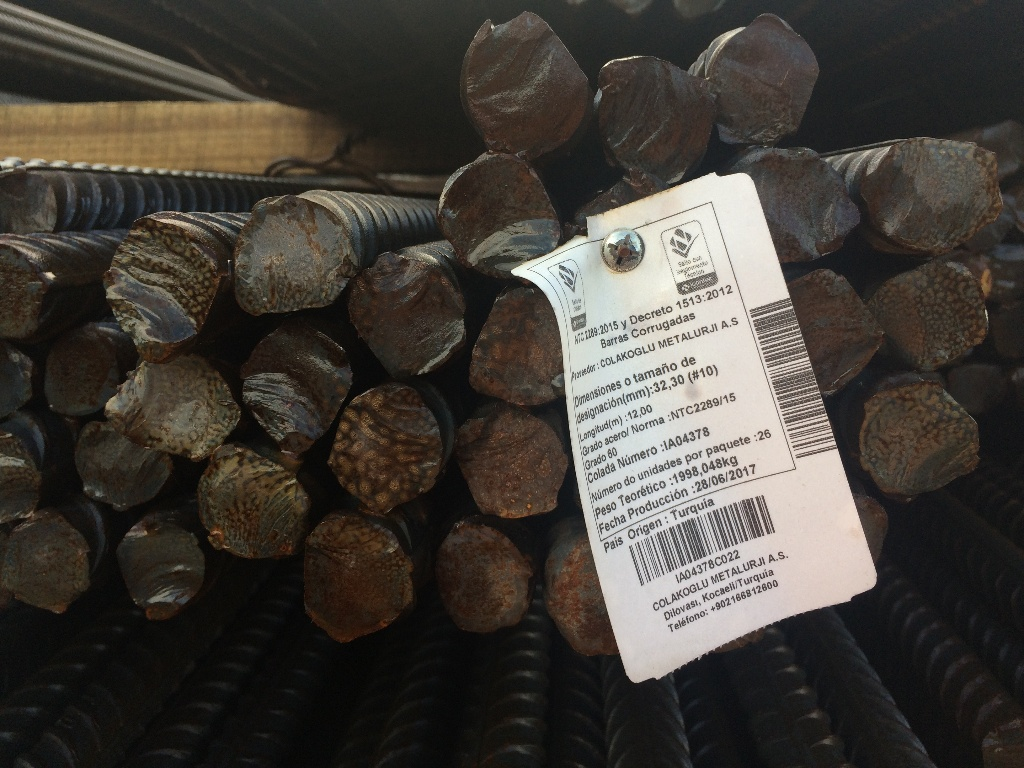dipstick: (454, 7, 594, 161), (97, 209, 231, 365), (855, 125, 1010, 258), (584, 48, 717, 190), (327, 374, 451, 514), (726, 144, 875, 260), (294, 515, 424, 647), (851, 371, 987, 496), (703, 10, 823, 144), (236, 186, 362, 312), (345, 248, 472, 372), (429, 148, 558, 270), (96, 354, 245, 457), (194, 440, 315, 562), (455, 402, 577, 522), (245, 329, 359, 450), (428, 521, 538, 638), (789, 267, 888, 394), (879, 265, 1006, 364), (111, 513, 230, 618), (4, 515, 91, 621), (78, 424, 180, 505), (39, 332, 137, 416), (3, 235, 57, 341)
